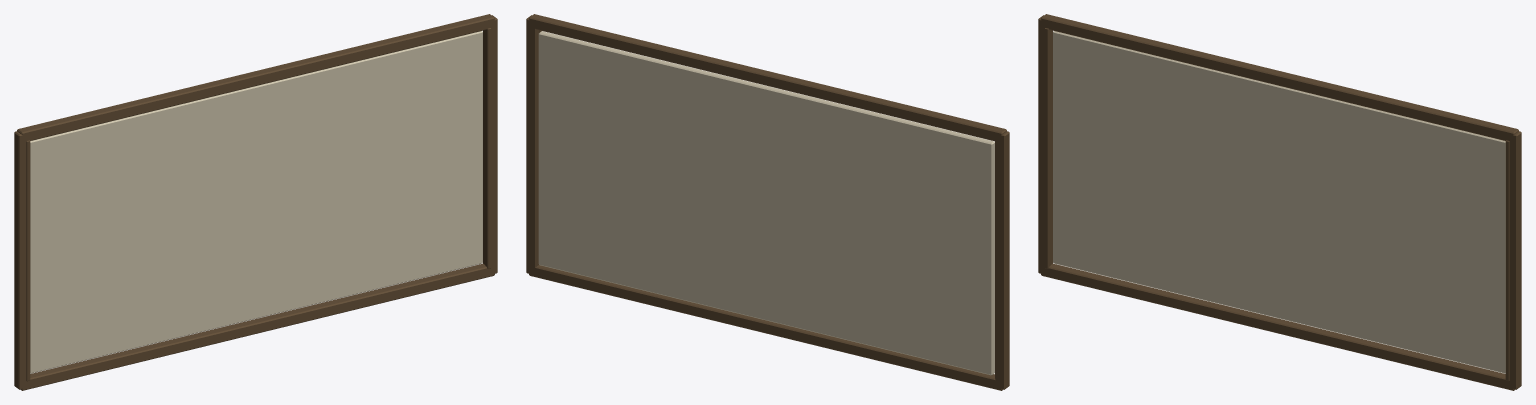
File: framed-plaque-lod1.fbx
The picture shows the model from 3 angles, left to right: view 1: azimuth 30°, elevation 25°; view 2: azimuth 150°, elevation 25°; view 3: azimuth 330°, elevation 25°; orthographic projection.
Visible parts, largest first — view 1: Eased paper plaque backing, Small framed plaque rail.001, Small framed plaque rail, Small framed plaque upright, Small framed plaque upright.001, Plaque upright inner eased bead.001, Plaque upright inner eased bead; view 2: Eased paper plaque backing, Small framed plaque rail.001, Small framed plaque rail, Small framed plaque upright, Small framed plaque upright.001; view 3: Eased paper plaque backing, Small framed plaque rail.001, Small framed plaque rail, Small framed plaque upright.001, Small framed plaque upright, Plaque upright inner eased bead, Plaque upright inner eased bead.001.
Boxes of the visible parts, <box> form: Eased paper plaque backing: <box>30,31,482,373</box>; Small framed plaque rail.001: <box>17,14,494,142</box>; Small framed plaque rail: <box>21,263,494,390</box>; Small framed plaque upright: <box>14,131,28,389</box>; Small framed plaque upright.001: <box>483,15,497,274</box>; Plaque upright inner eased bead.001: <box>485,28,491,268</box>; Plaque upright inner eased bead: <box>26,140,30,381</box>; Eased paper plaque backing: <box>538,31,994,375</box>; Small framed plaque rail.001: <box>529,14,1006,141</box>; Small framed plaque rail: <box>529,265,1002,390</box>; Small framed plaque upright: <box>995,131,1009,389</box>; Small framed plaque upright.001: <box>526,15,539,273</box>; Eased paper plaque backing: <box>1053,31,1505,373</box>; Small framed plaque rail.001: <box>1041,14,1518,142</box>; Small framed plaque rail: <box>1041,263,1514,390</box>; Small framed plaque upright.001: <box>1507,131,1521,389</box>; Small framed plaque upright: <box>1038,15,1052,274</box>; Plaque upright inner eased bead: <box>1044,28,1050,268</box>; Plaque upright inner eased bead.001: <box>1505,140,1509,381</box>.
Size of the model in its own units: 97.1 by 50.1 by 2.15.
